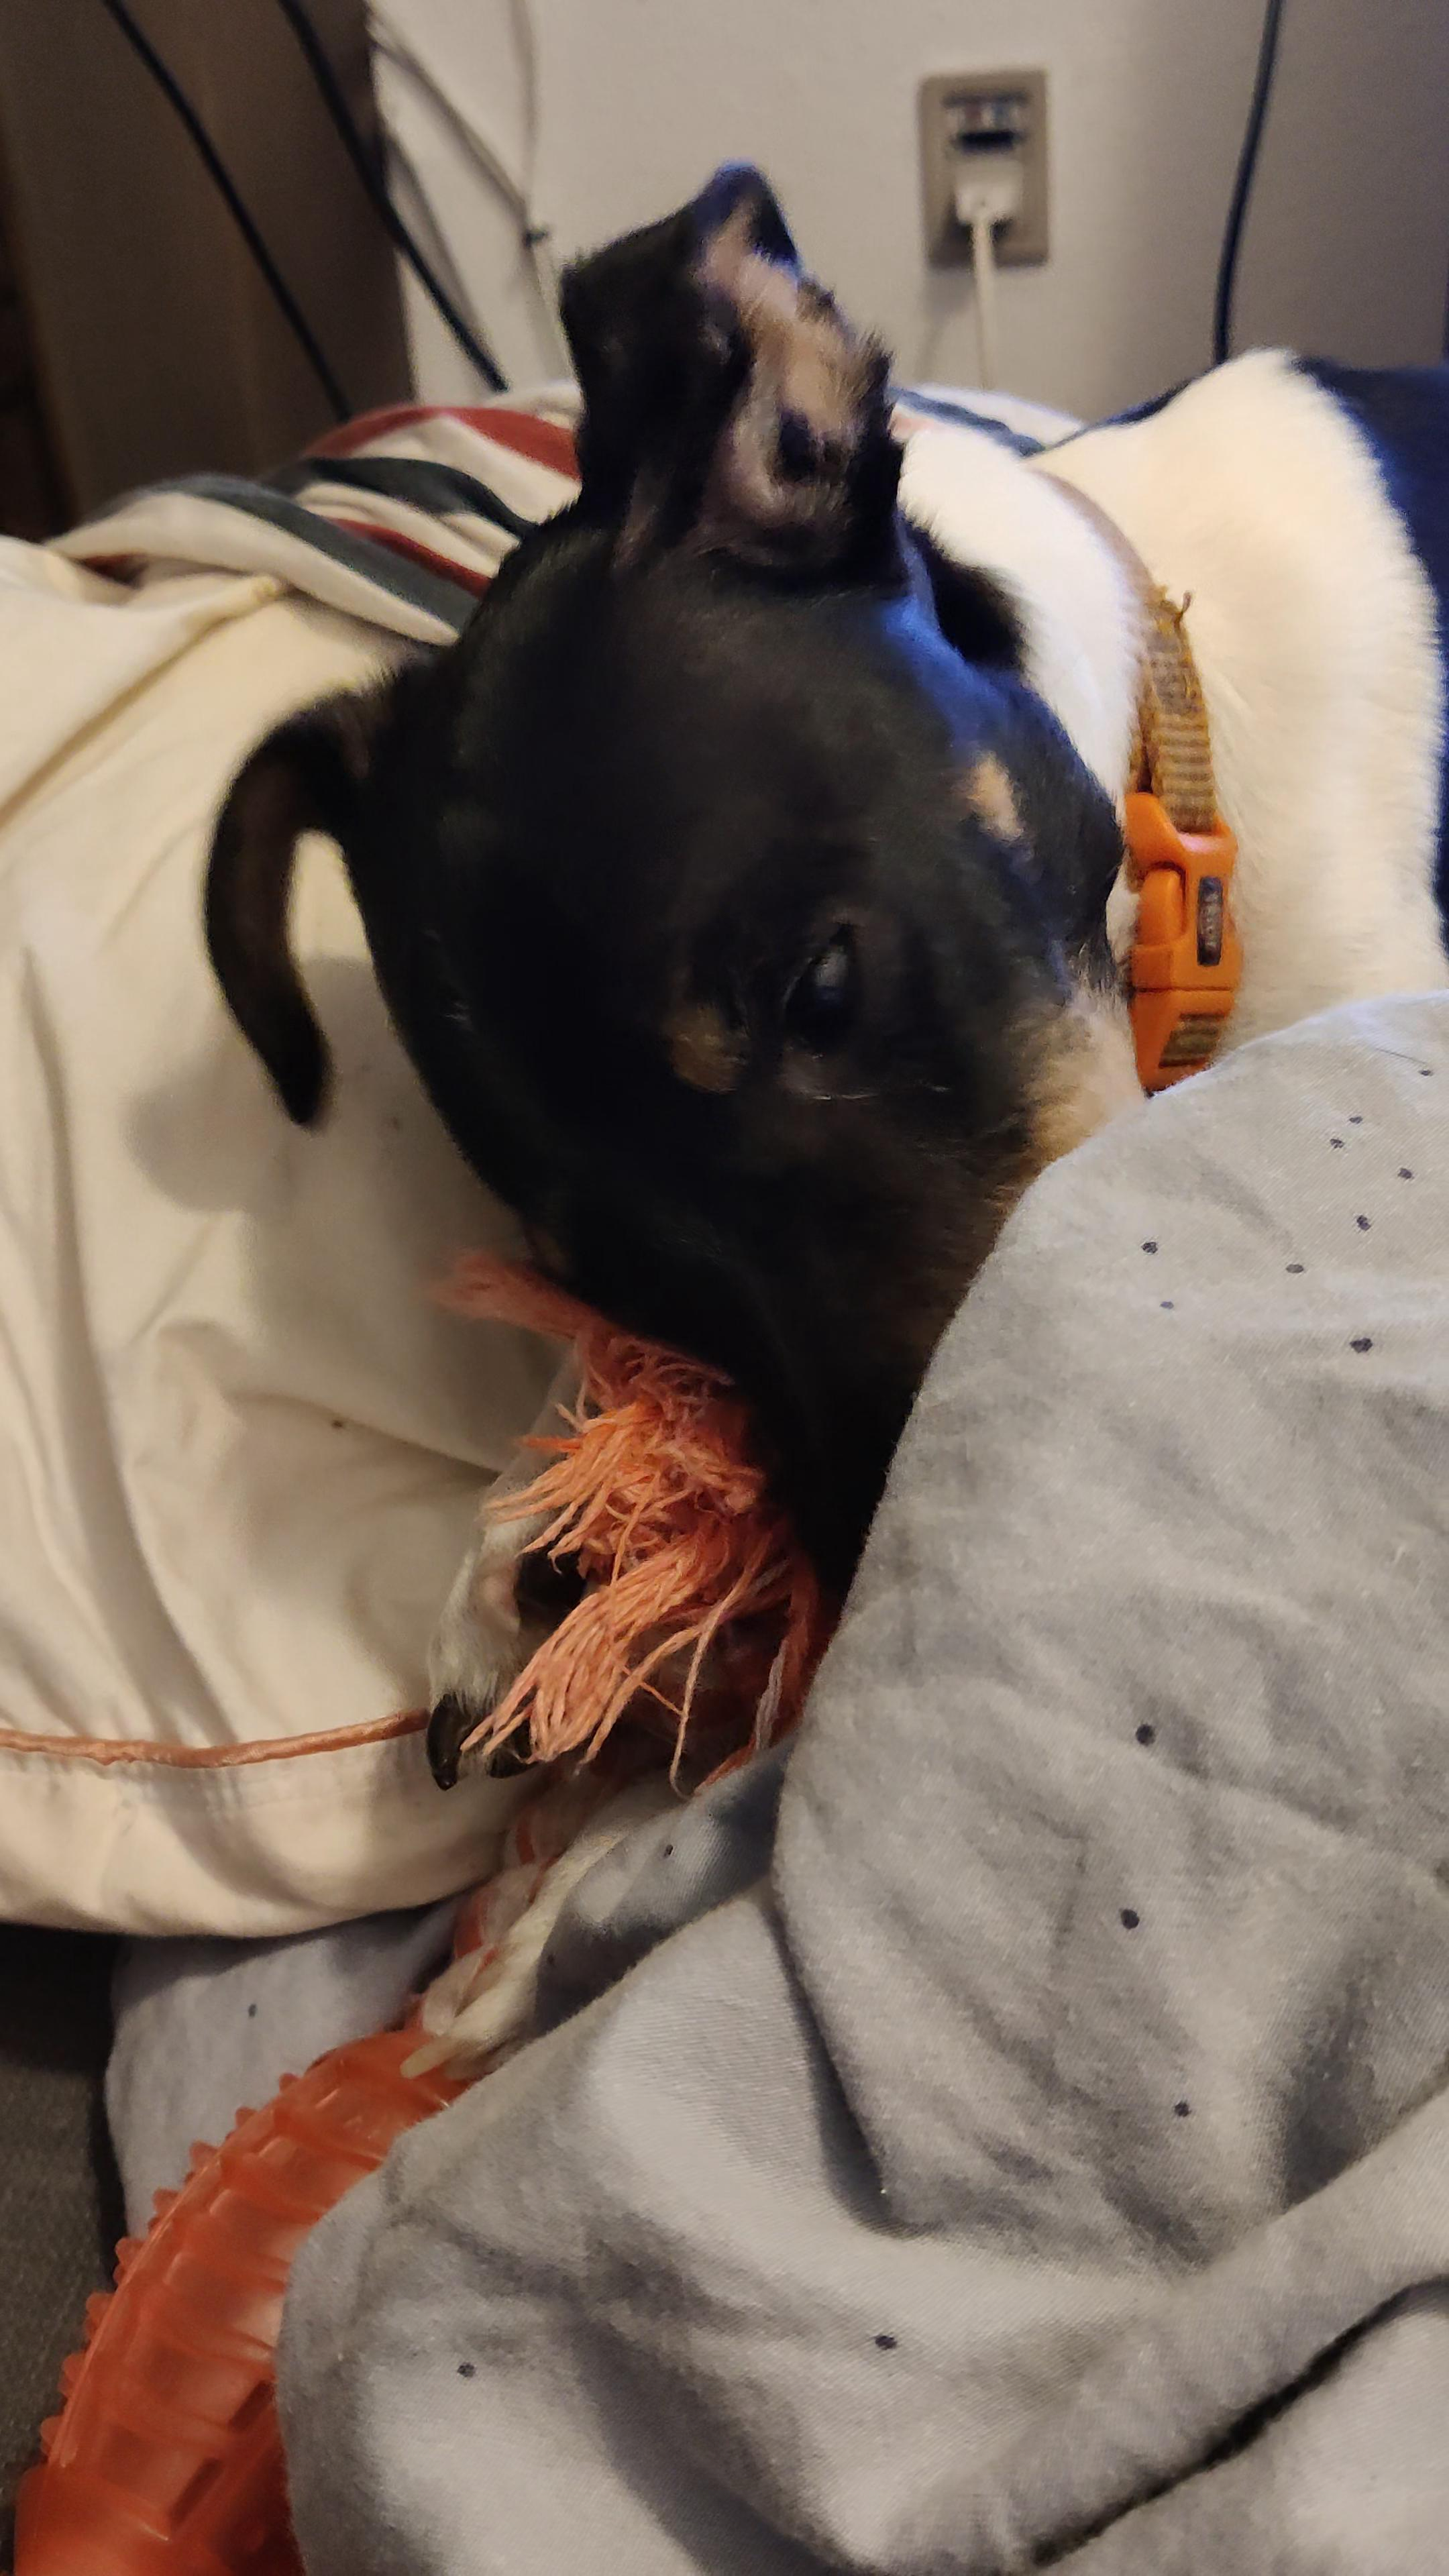Dog: (186, 150, 1449, 2081)
